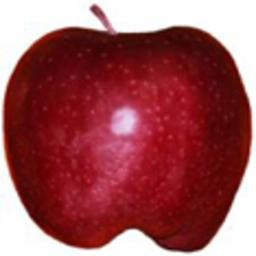apple: (3, 19, 251, 251)
